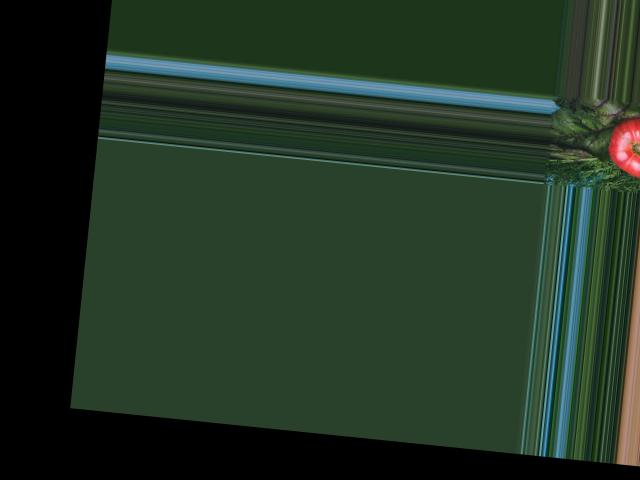tomato: (606, 110, 640, 182)
